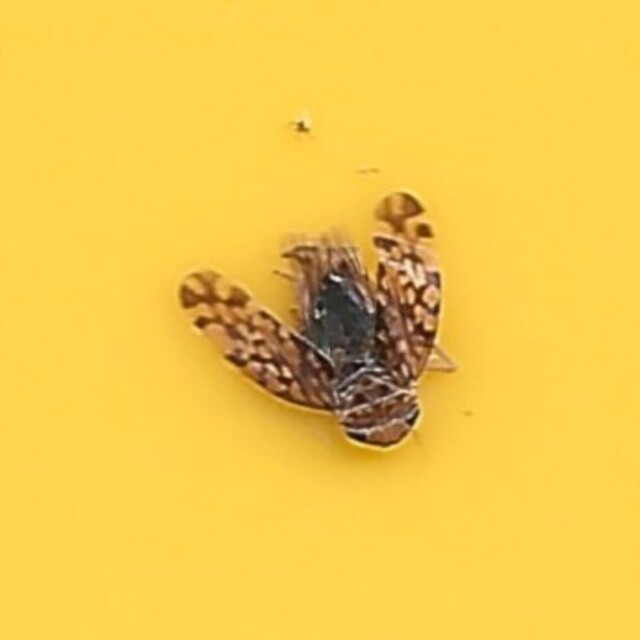Hemiptera: (186, 183, 454, 457)
